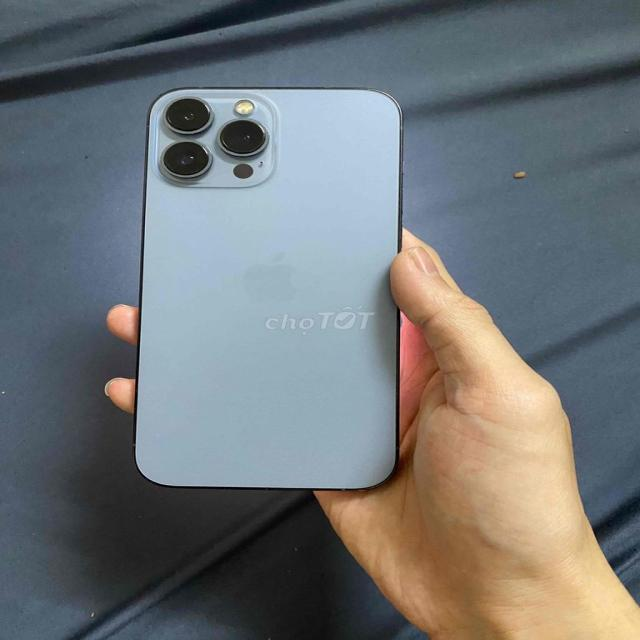gen_12_13: (128, 82, 423, 506)
